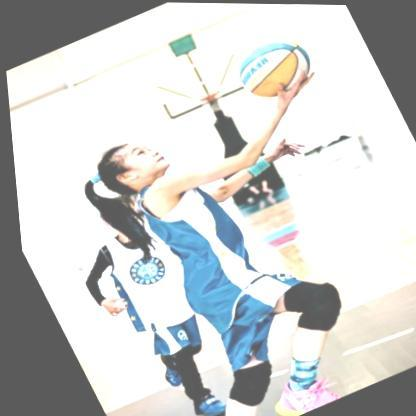basketball: (224, 27, 321, 107)
